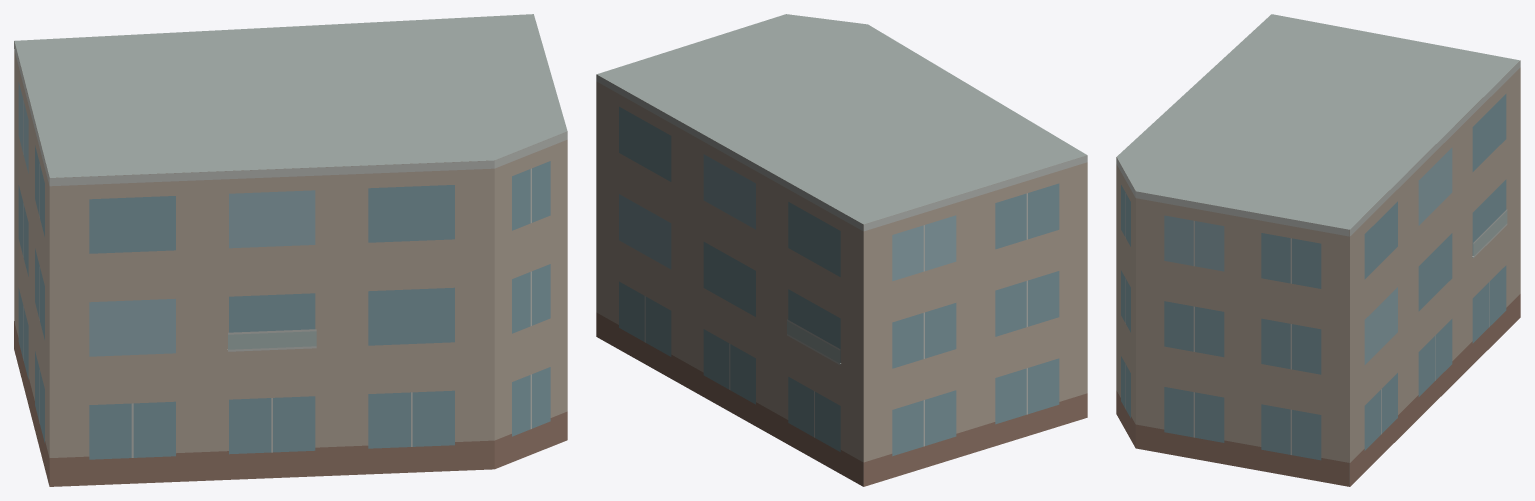
Rendered from survey-upis-32717904.glb.
The picture shows the model from 3 angles, left to right: view 1: azimuth 30°, elevation 25°; view 2: azimuth 150°, elevation 25°; view 3: azimuth 270°, elevation 25°; orthographic projection. The views are drawn at different scales.
Visible parts, largest first — view 1: survey-upis-32717904.tmp; view 2: survey-upis-32717904.tmp; view 3: survey-upis-32717904.tmp.
Boxes of the visible parts, x1,y1,x2,y2 form: survey-upis-32717904.tmp: (14, 14, 567, 486); survey-upis-32717904.tmp: (596, 14, 1087, 486); survey-upis-32717904.tmp: (1116, 14, 1520, 486).
Bounding box in the file's own units: 16.48 × 9.15 × 13.04.
